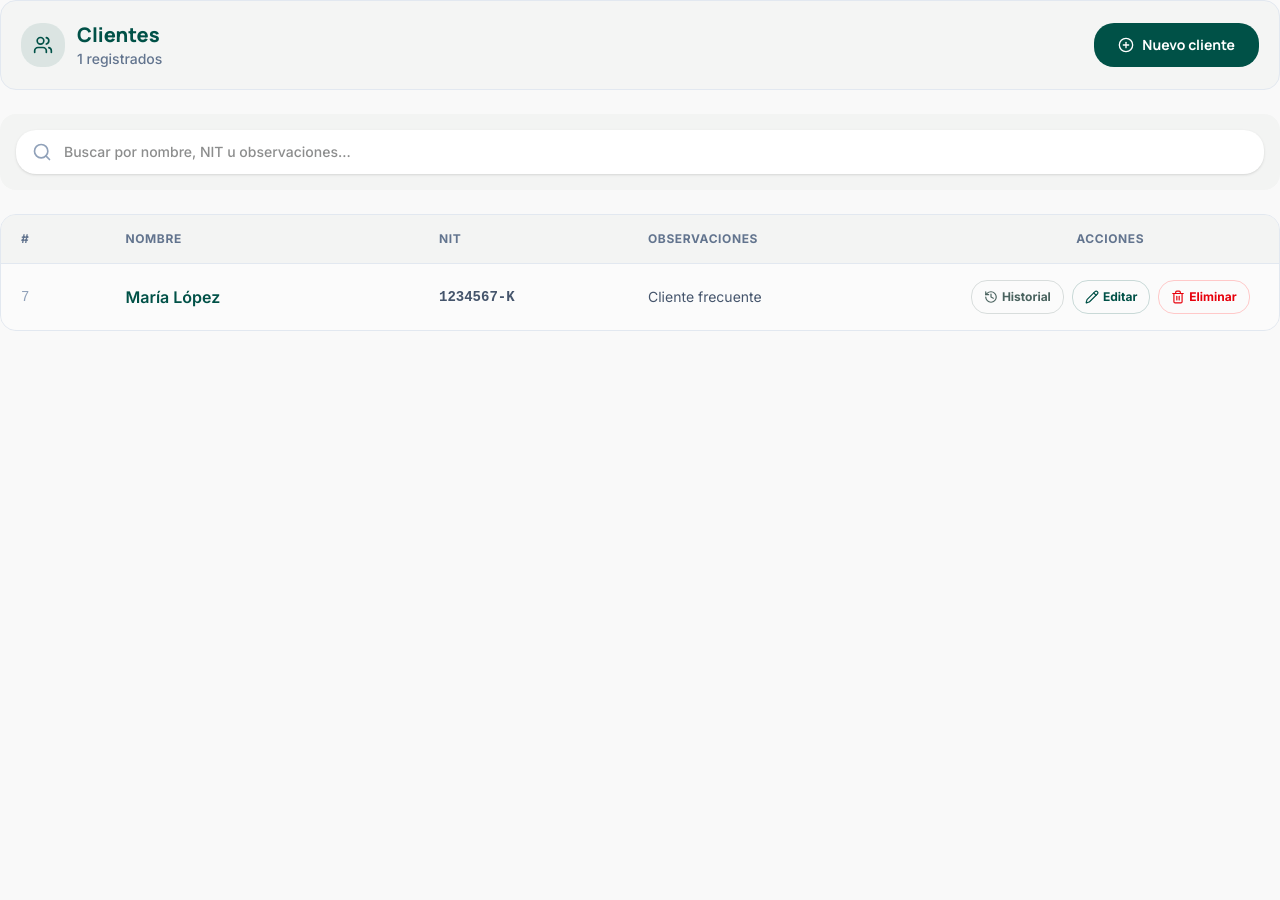
Clientes › muestra un estado vacío cuando el cliente no tiene ventas asociadas
Click the button with aria-label "Ver historial de María López": click(1017, 297) [971, 280, 1064, 314]
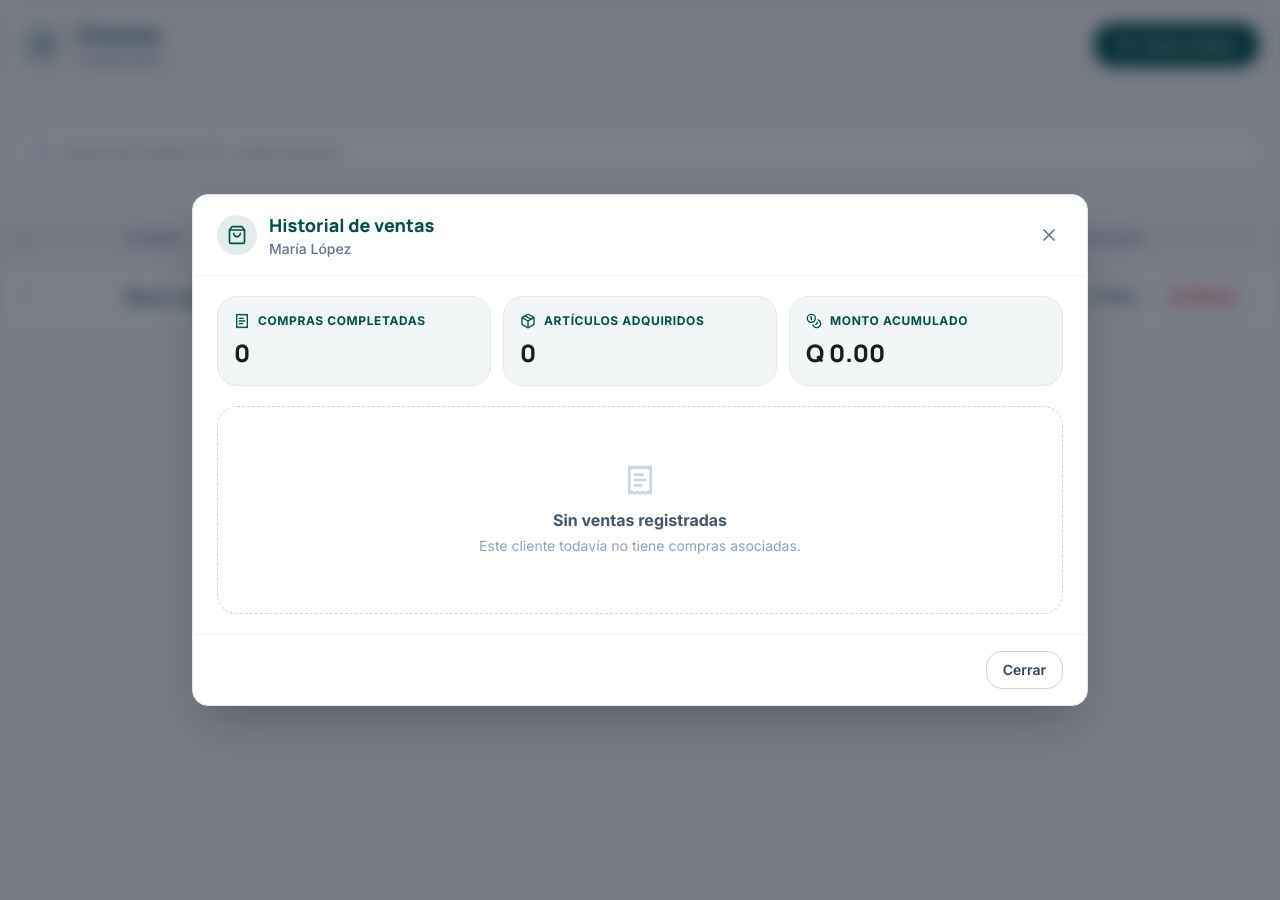
Expected: the text "Sin ventas registradas" is shown, [553, 508, 727, 532]
Expected: the text "Este cliente todavía no tiene compras asociadas." is shown, [479, 536, 801, 556]
